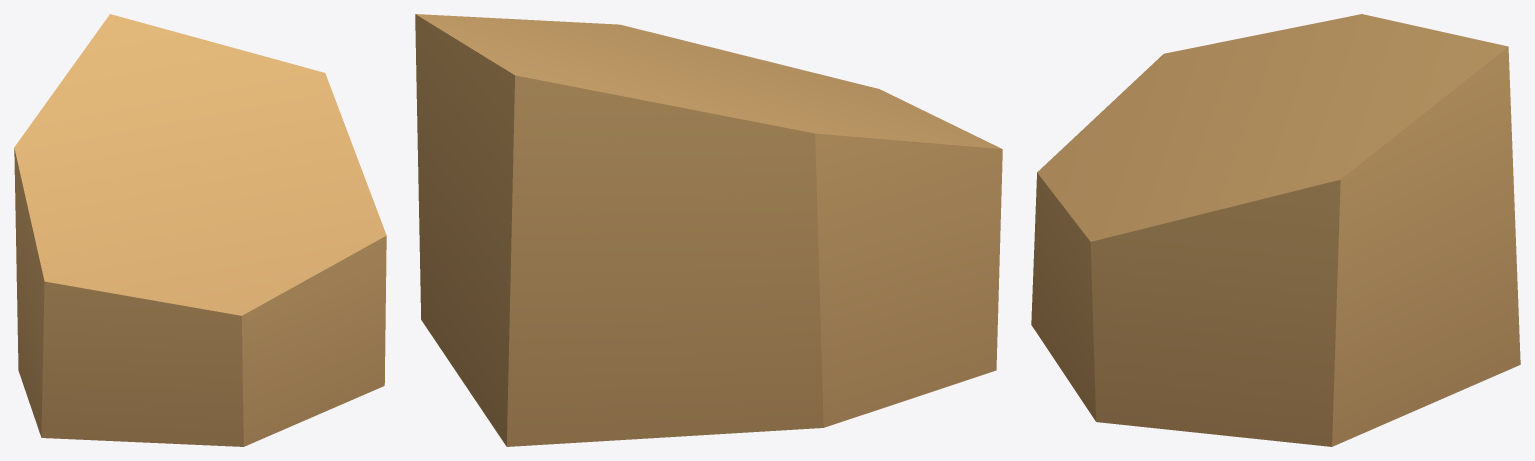
File: desert stone small 11.fbx
3 views of the same model, side by side, from view 1: azimuth 30°, elevation 25°; view 2: azimuth 150°, elevation 25°; view 3: azimuth 270°, elevation 25° (orthographic). The views are drawn at different scales.
Parts seen in each view (by area): view 1: desert stone small 11; view 2: desert stone small 11; view 3: desert stone small 11.
Boxes of the visible parts, x1,y1,x2,y2 form: desert stone small 11: [14, 14, 386, 446]; desert stone small 11: [415, 14, 1002, 446]; desert stone small 11: [1031, 14, 1520, 446].
Size of the model in its own units: 120 by 86.85 by 121.
